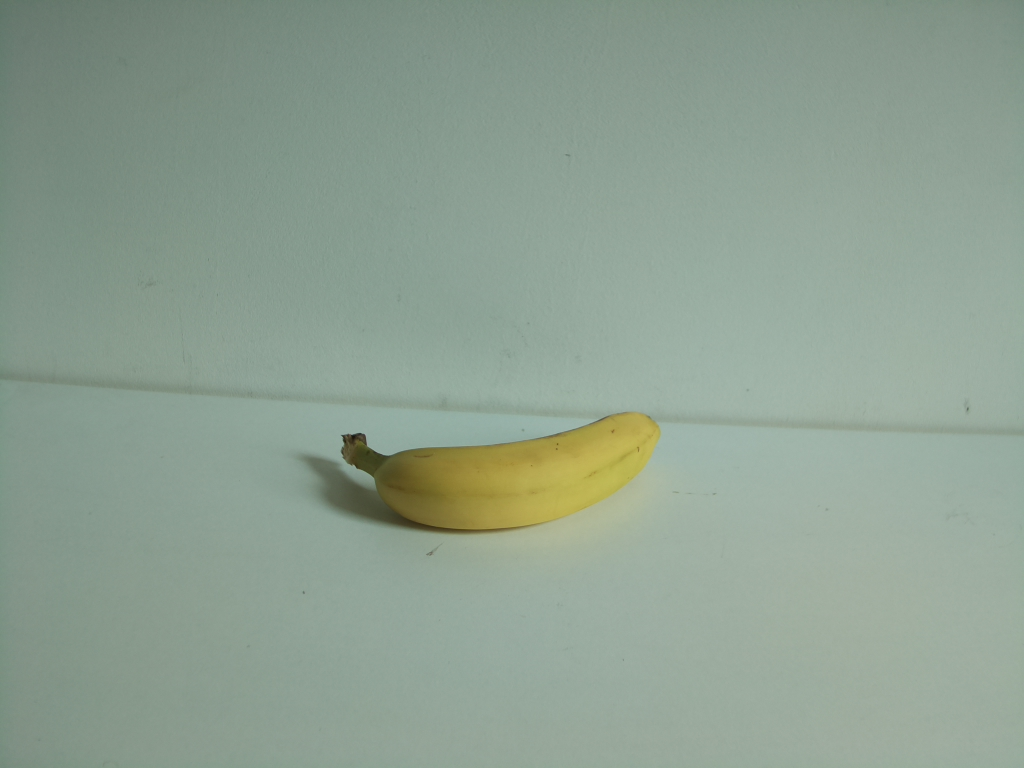banana: (340, 410, 659, 533)
